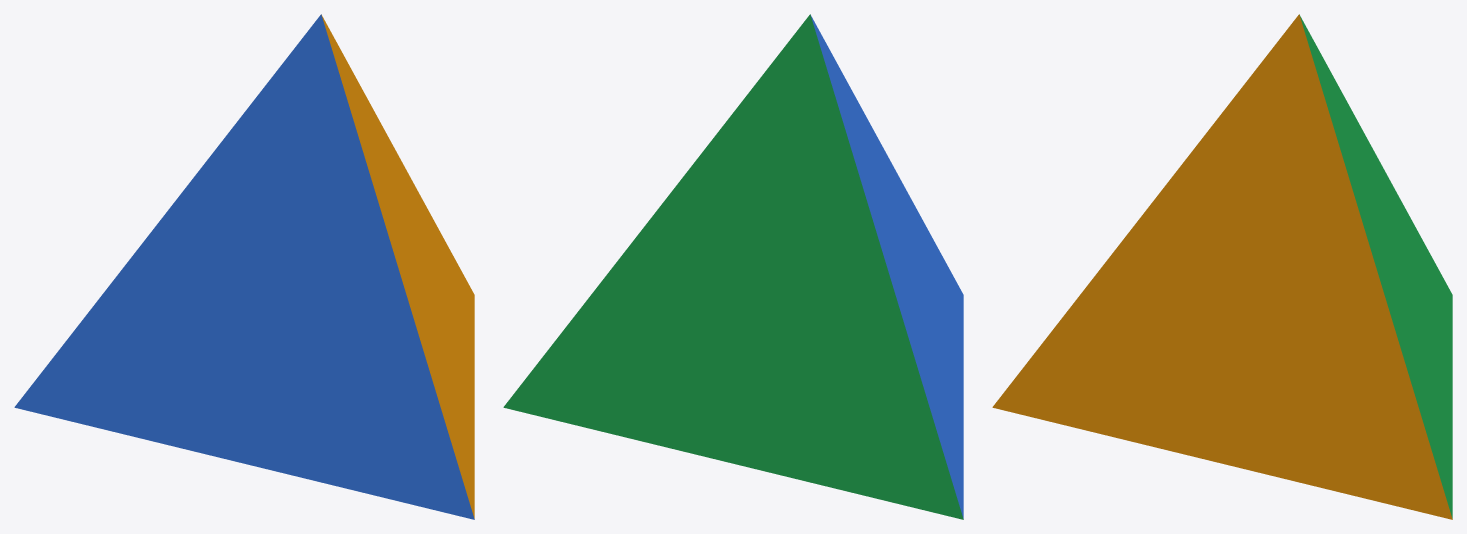
The model's file is limas-bidang-empat.glb.
The picture shows the model from 3 angles, left to right: view 1: azimuth 30°, elevation 25°; view 2: azimuth 150°, elevation 25°; view 3: azimuth 270°, elevation 25°; orthographic projection.
Visible parts, largest first — view 1: tegak1, tegak3; view 2: tegak2, tegak1; view 3: tegak3, tegak2.
Part boxes in pixels (x1,y1,x2,y2): tegak1: (14,14,474,519); tegak3: (321,15,474,518); tegak2: (503,14,963,519); tegak1: (810,15,963,518); tegak3: (992,14,1452,519); tegak2: (1299,15,1452,518).
Size of the model in its own units: 1.4 by 1.14 by 1.21.
